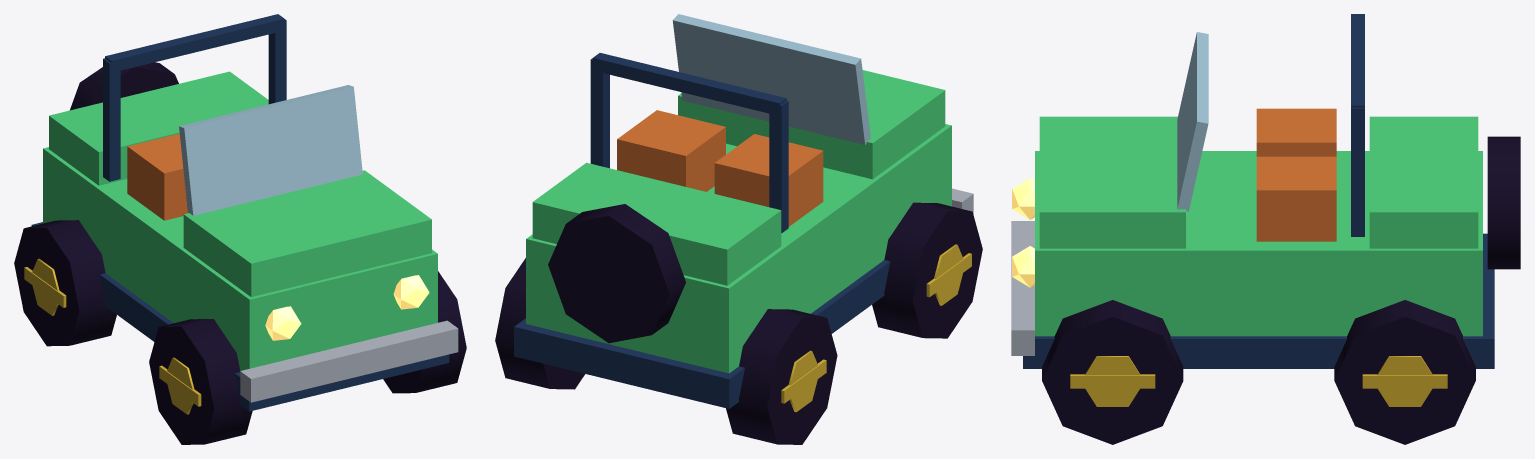
Rendered from jipe.glb.
The picture shows the model from 3 angles, left to right: view 1: azimuth 30°, elevation 25°; view 2: azimuth 150°, elevation 25°; view 3: azimuth 270°, elevation 25°; orthographic projection. The views are drawn at different scales.
Parts seen in each view (by area): view 1: jipe, giro_x_1, giro_x_0, giro_x_3; view 2: jipe, giro_x_0, giro_x_1, giro_x_2; view 3: jipe, giro_x_3, giro_x_2.
Part boxes in pixels (x1,y1,x2,y2): jipe: (31, 14, 458, 411); giro_x_1: (149, 319, 252, 444); giro_x_0: (14, 220, 116, 346); giro_x_3: (383, 271, 466, 393); jipe: (514, 14, 973, 408); giro_x_0: (726, 309, 837, 444); giro_x_1: (872, 202, 982, 338); giro_x_2: (495, 258, 584, 389); jipe: (1011, 14, 1520, 368); giro_x_3: (1042, 300, 1183, 444); giro_x_2: (1334, 300, 1475, 444).
Bounding box in the file's own units: 1.37 × 1.49 × 2.16.
